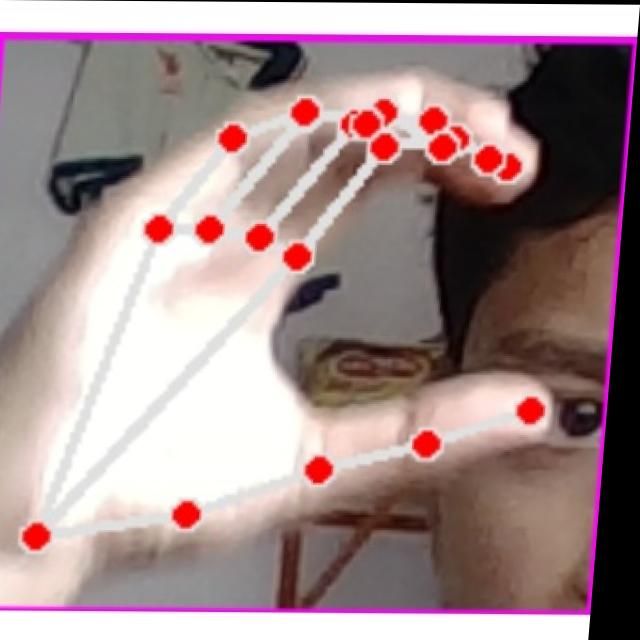C: (0, 60, 601, 591)
